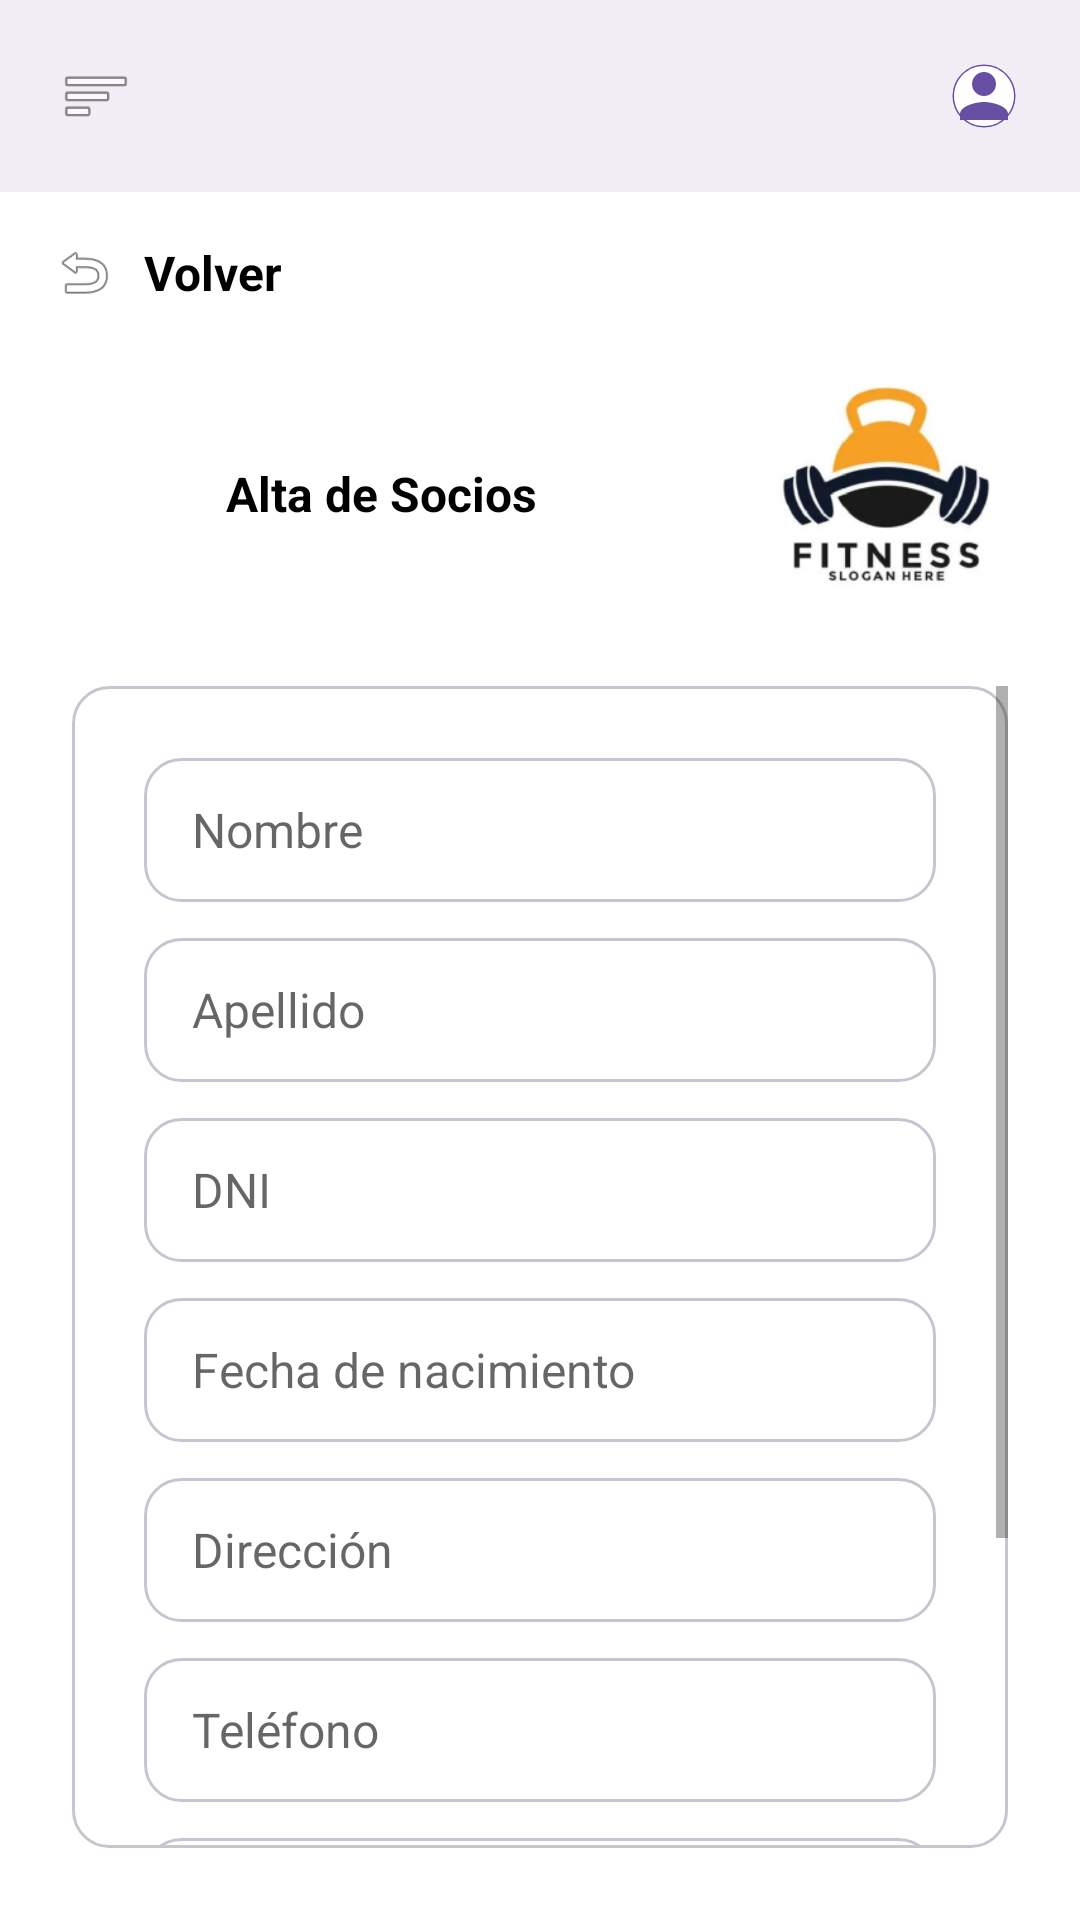

Where icons sit on this 1080px×1920px app screen, as (x1, y1, x2, y2):
revert: (61, 252, 108, 294)
sort by size: (65, 76, 127, 117)
